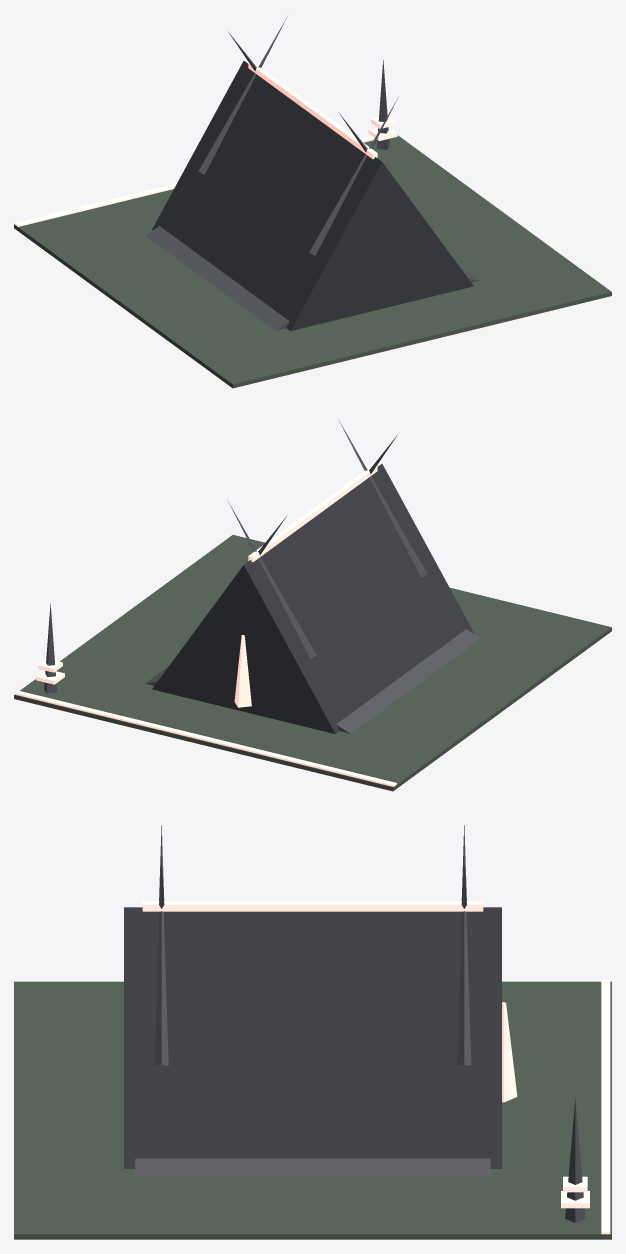
File: zone_low_3_t2.glb
The picture shows the model from 3 angles, top to bottom: view 1: azimuth 30°, elevation 25°; view 2: azimuth 150°, elevation 25°; view 3: azimuth 270°, elevation 25°; orthographic projection. The views are drawn at different scales.
Visible parts, largest first — view 1: zone_low_3_t2, detail; view 2: zone_low_3_t2, detail; view 3: zone_low_3_t2, detail.
Part boxes in pixels (x1,y1,x2,y2): zone_low_3_t2: (14,17,611,388); detail: (14,60,397,226); zone_low_3_t2: (14,420,611,791); detail: (14,603,396,786); zone_low_3_t2: (14,825,611,1239); detail: (561,979,610,1234).
Size of the model in its own units: 19.6 by 9.86 by 19.6.
